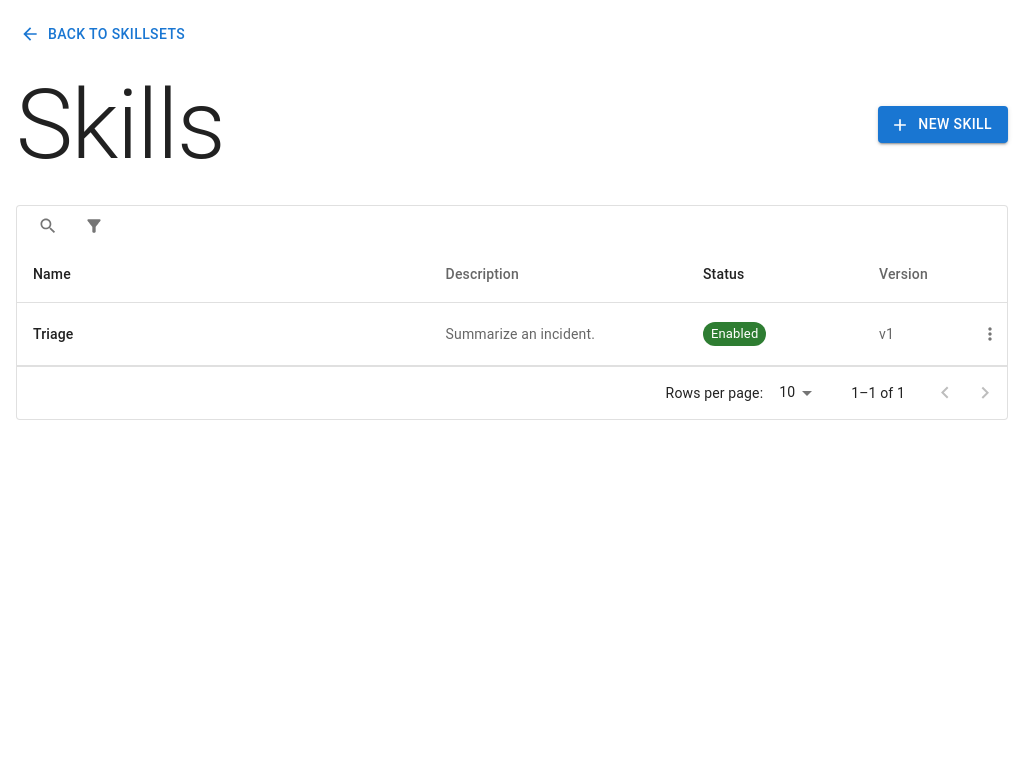
it: SkillsetSkills › opens skill details when optional metadata arrays are absent
Click the text "Triage".
click(53, 334)  # box [33,326,74,342]
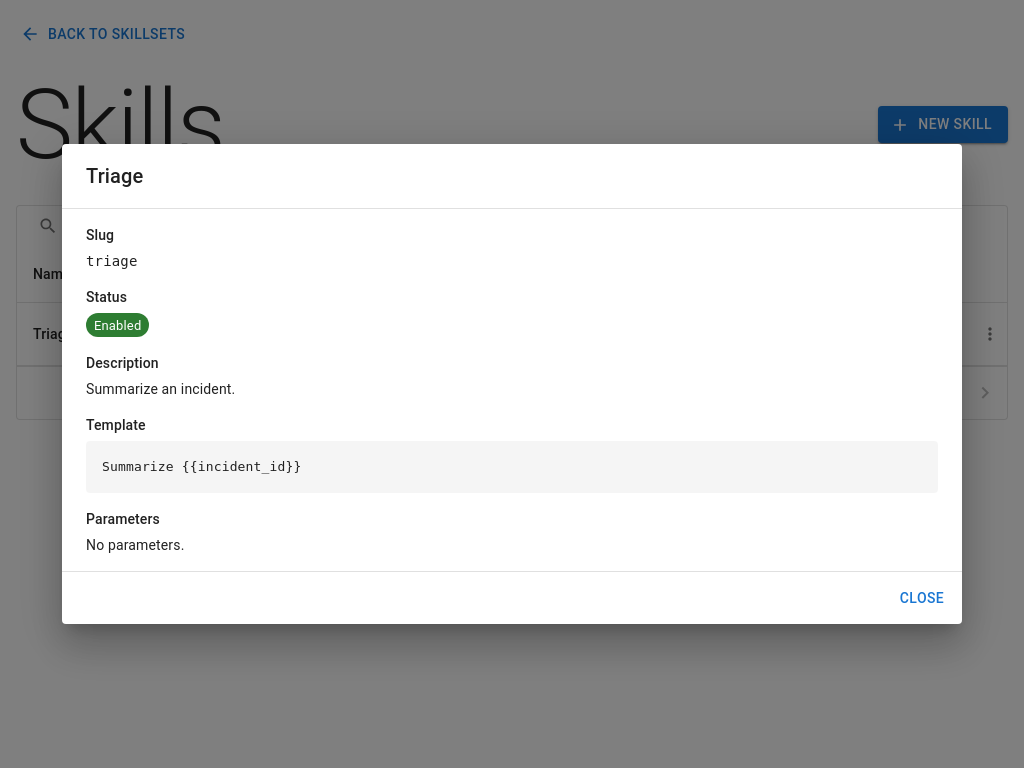
Now the dialog "Triage" is shown, box [62,144,962,624]
Now the text "triage" is shown, box [86,253,138,269]
Now the text "No parameters." is shown, box [86,537,184,553]
